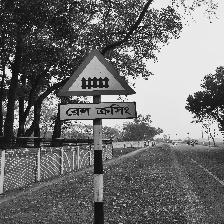Rail-crossing: (56, 49, 138, 122)
